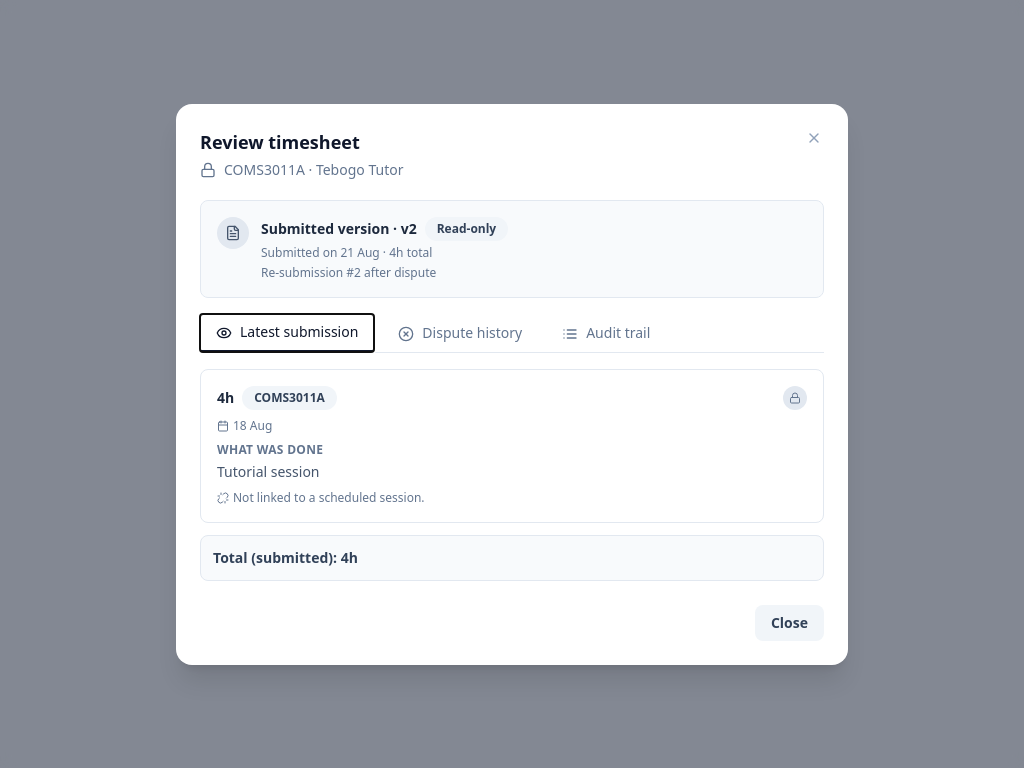
Test: ReviewTimesheetModal › surfaces dispute history for a re-submitted version
Expected: the text "Re-submission #2 after dispute" is shown, [261,264,436,280]
Expected: the button "Latest submission" is shown, [200,314,374,352]
Click the button "Dispute history" at [460, 332], box [382,314,538,352]
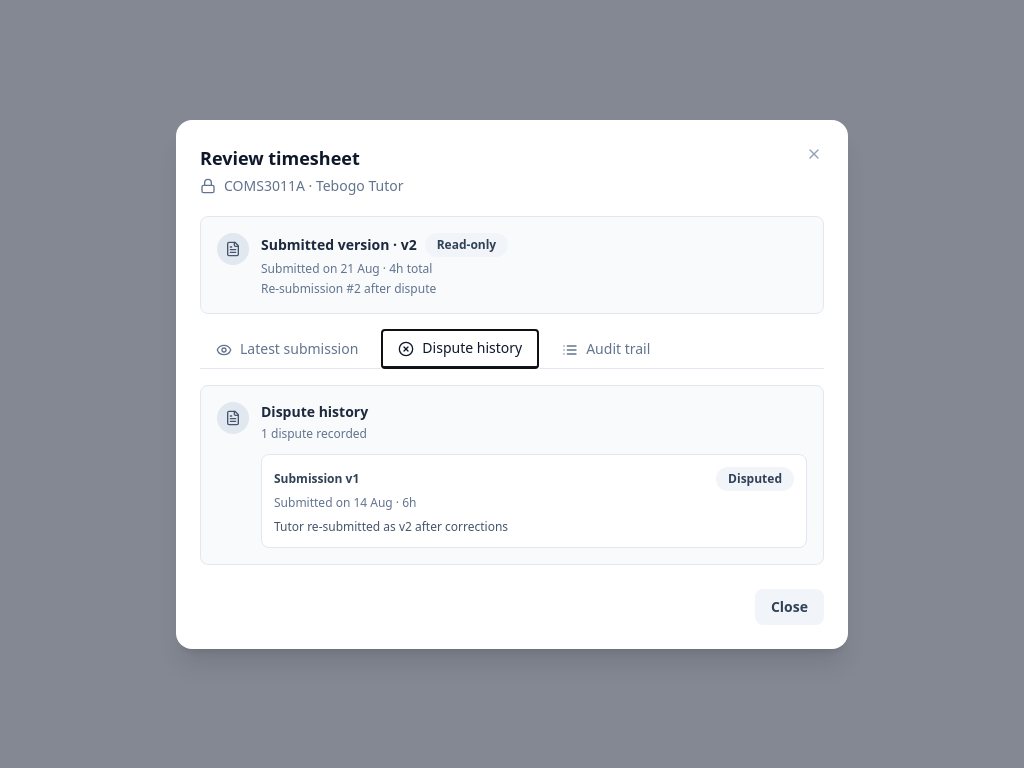
Expected: the text "1 dispute recorded" is shown, [261,424,367,442]
